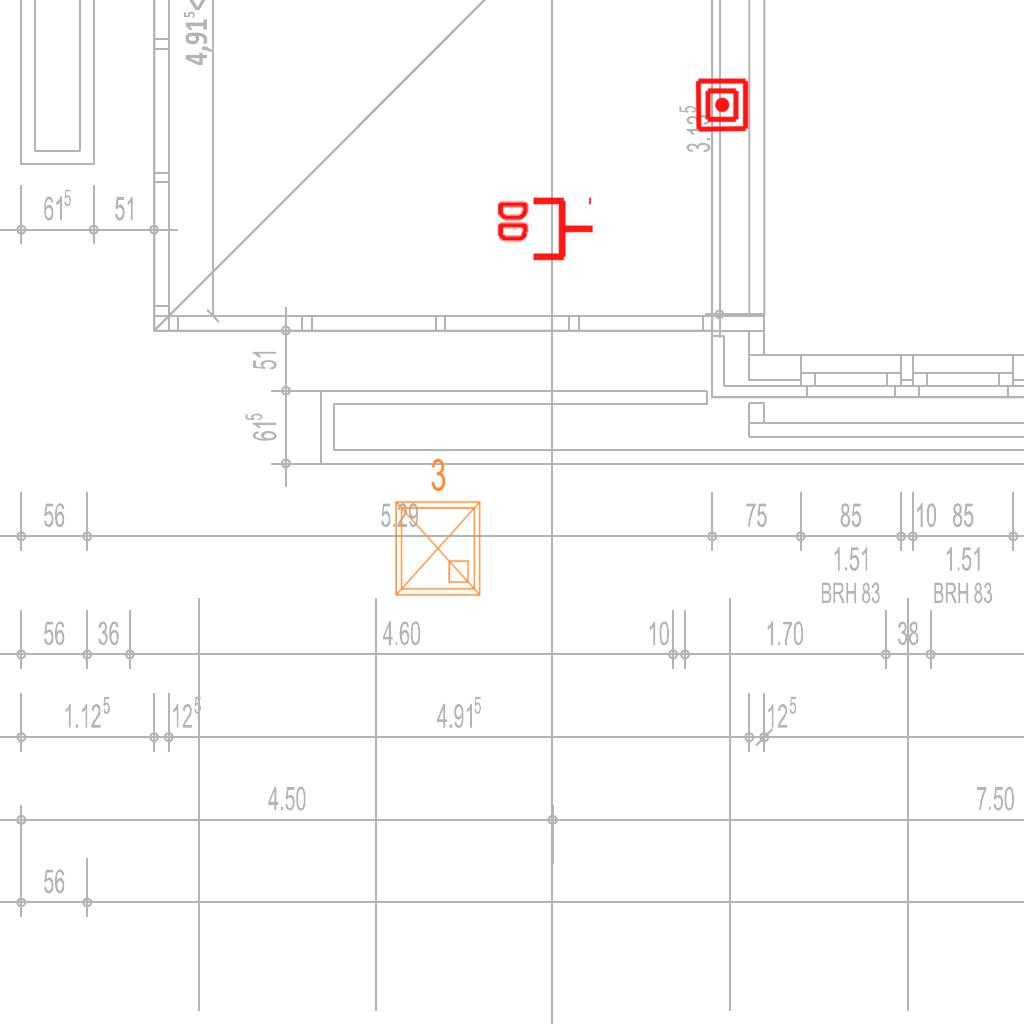Datenanschluss_zweifach: (493, 196, 596, 265)
Einbaudownlights_LED_Konferenzraeume: (384, 453, 488, 603)
NAM-Nichtautomatischer_Melder: (694, 77, 750, 133)
